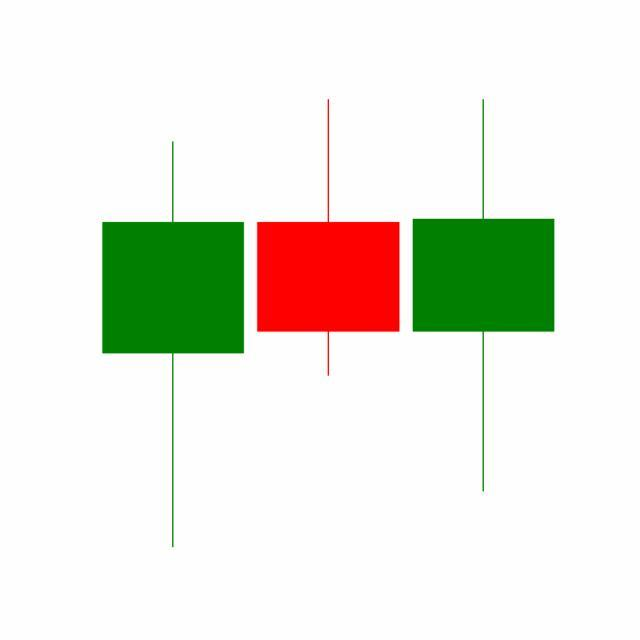Spinning Top: (406, 95, 562, 496)
